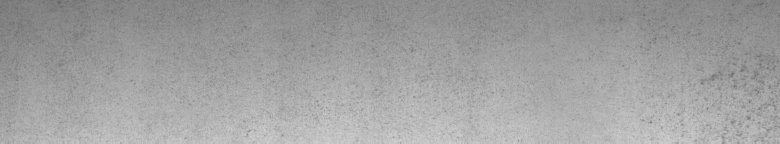ib: (640, 36, 776, 134)
